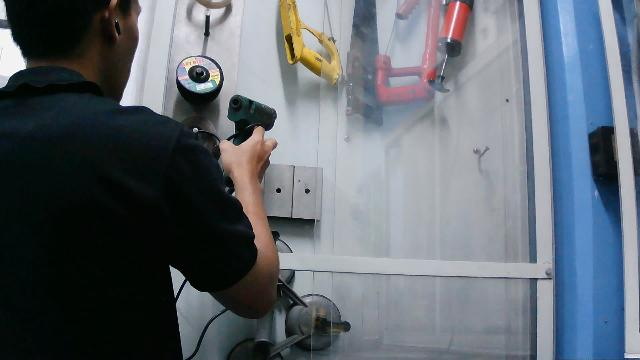gun_lem: (218, 88, 285, 180)
